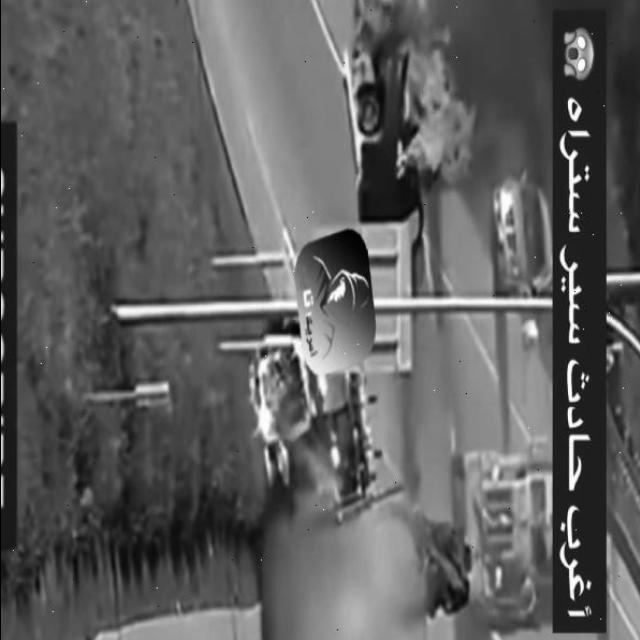accident: (234, 290, 452, 640), (357, 1, 499, 299)
